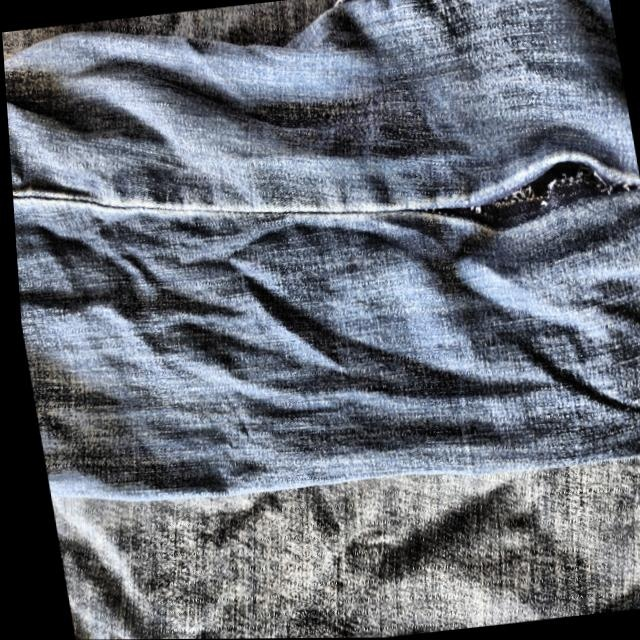seam: (408, 118, 639, 276)
